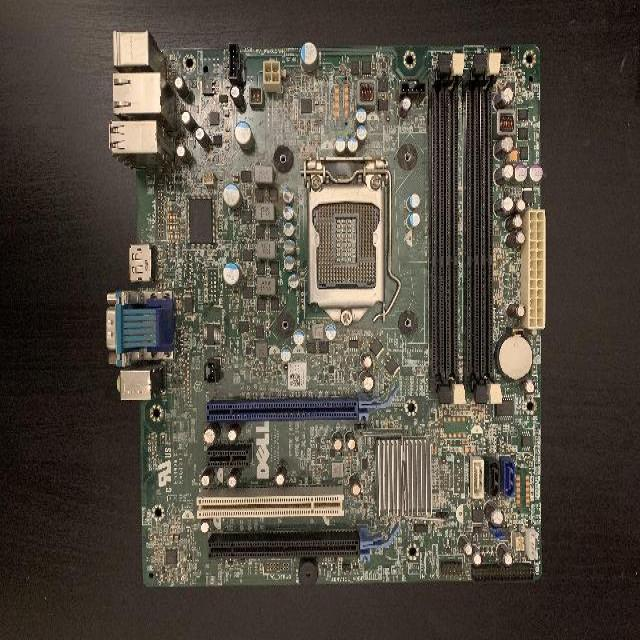Mainboard: (106, 31, 544, 586)
